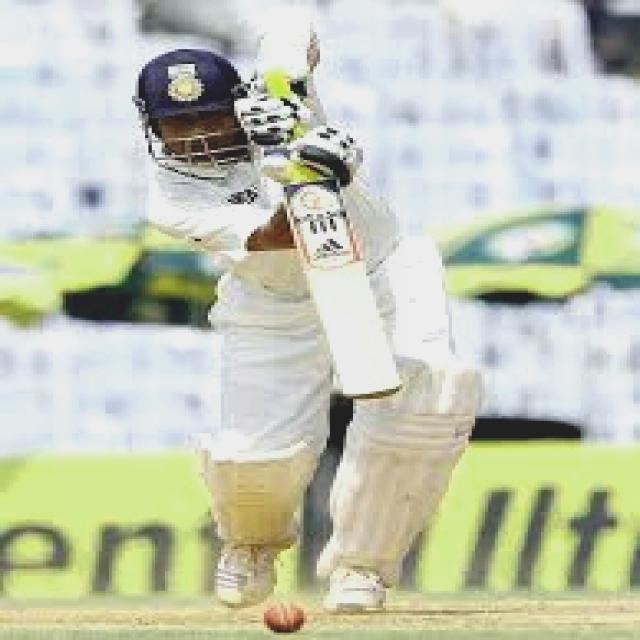bat: (263, 158, 411, 421)
toe: (341, 388, 402, 403)
